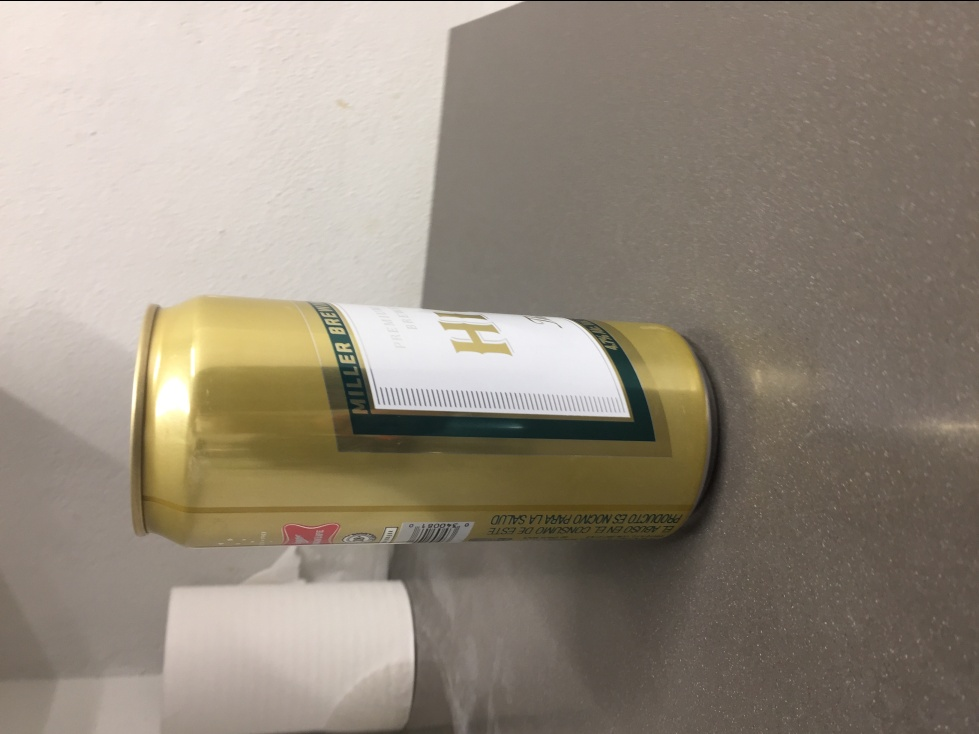miller: (124, 291, 721, 550)
